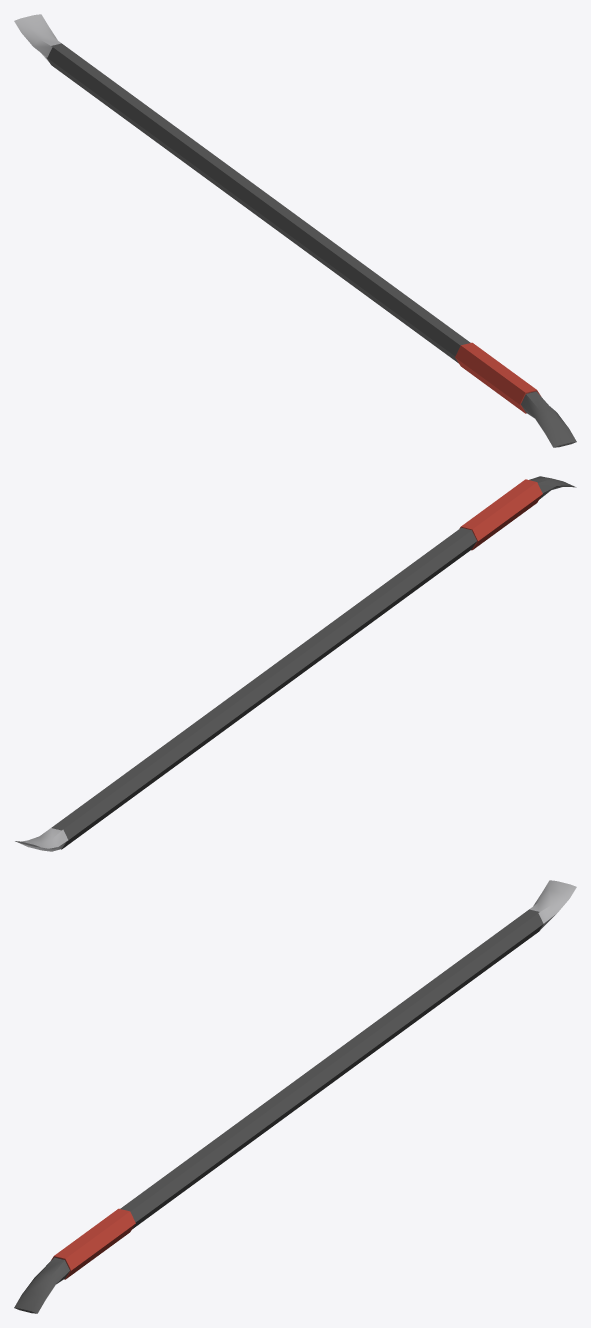
File: crowbar.glb
3 views of the same model, one above another, from view 1: azimuth 30°, elevation 25°; view 2: azimuth 150°, elevation 25°; view 3: azimuth 330°, elevation 25° (orthographic).
Parts seen in each view (by area): view 1: body; view 2: body; view 3: body.
Part boxes in pixels (x1,y1,x2,y2): body: (14, 14, 576, 447); body: (15, 476, 576, 851); body: (14, 880, 576, 1313).
Bounding box in the file's own units: 0.022 × 0.0274 × 0.747.
